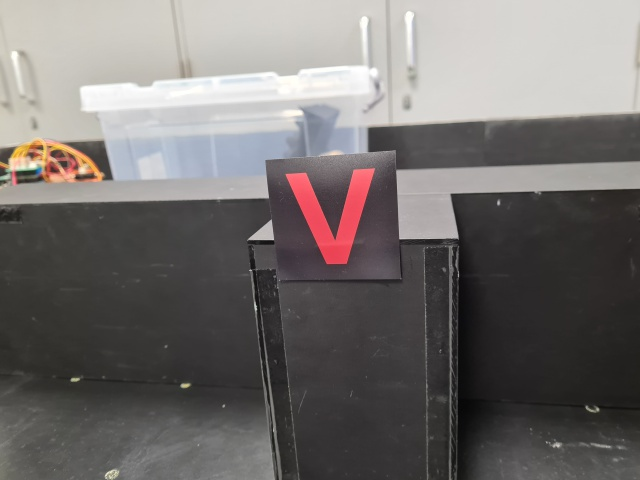alphabet_v: (262, 149, 405, 282)
